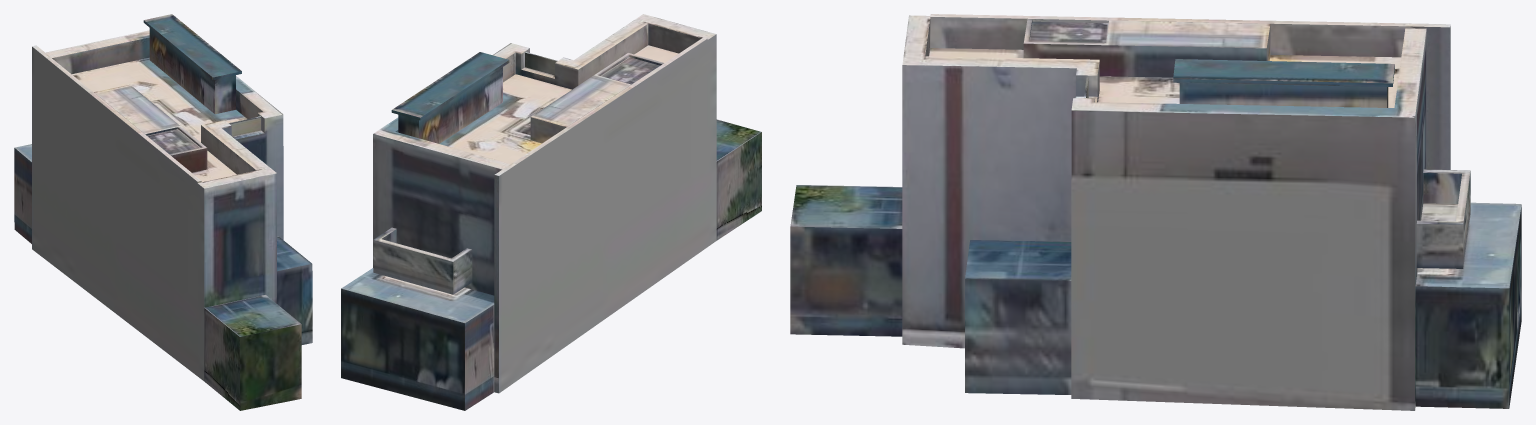
The picture shows the model from 3 angles, left to right: view 1: azimuth 30°, elevation 25°; view 2: azimuth 150°, elevation 25°; view 3: azimuth 270°, elevation 25°; orthographic projection. The views are drawn at different scales.
Parts seen in each view (by area): view 1: B285114034301062A0; view 2: B285114034301062A0; view 3: B285114034301062A0.
Part boxes in pixels (bbox=[...]): B285114034301062A0: bbox=[14, 14, 312, 410]; B285114034301062A0: bbox=[341, 14, 761, 410]; B285114034301062A0: bbox=[790, 14, 1521, 410].
Size of the model in its own units: 7.1 by 10.17 by 21.02.
1 material, 1 textured.
